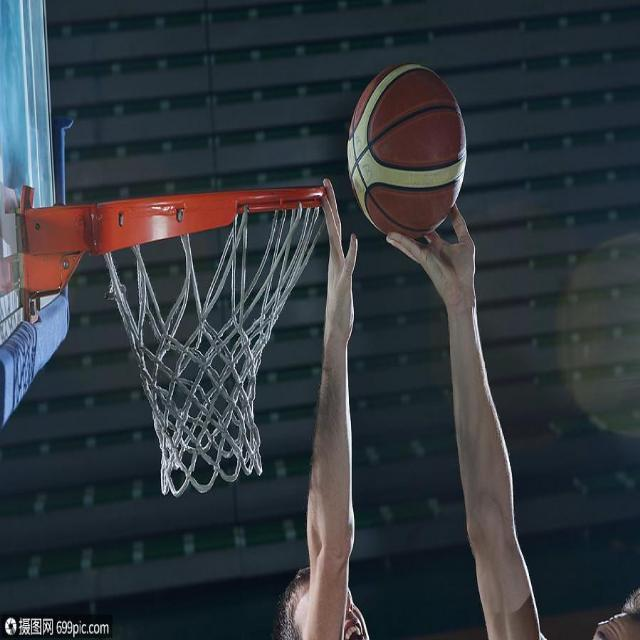rim: (348, 62, 464, 238)
